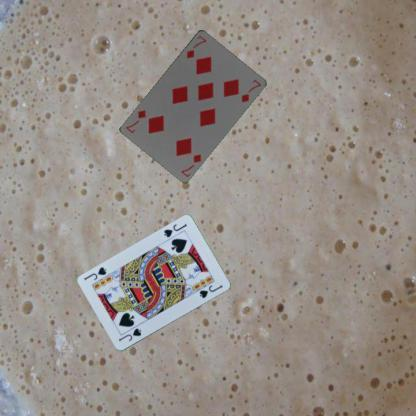7d: (184, 32, 208, 60), (178, 150, 202, 178)
Js: (161, 221, 188, 239), (116, 326, 142, 342)
